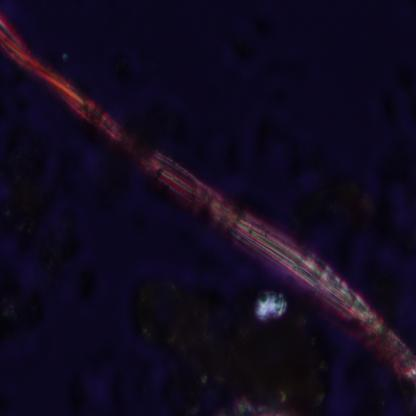Microfibre: (0, 15, 414, 382)
